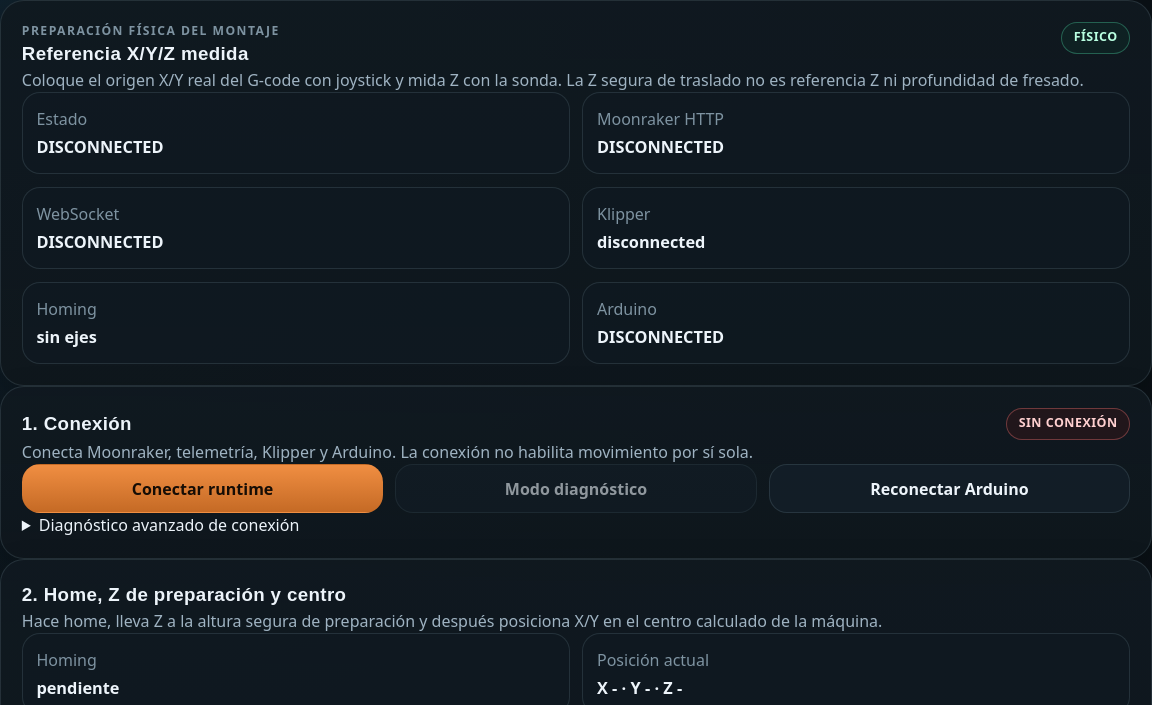
Test: ReferenceWorkspace connection and workflow UI › muestra Reconectar runtime si Conectar no queda listo después de 10 segundos
The image size is (1152, 705).
Click the button "Conectar runtime": x=203, y=489 [22,464,383,513]
Wait 10000 ms
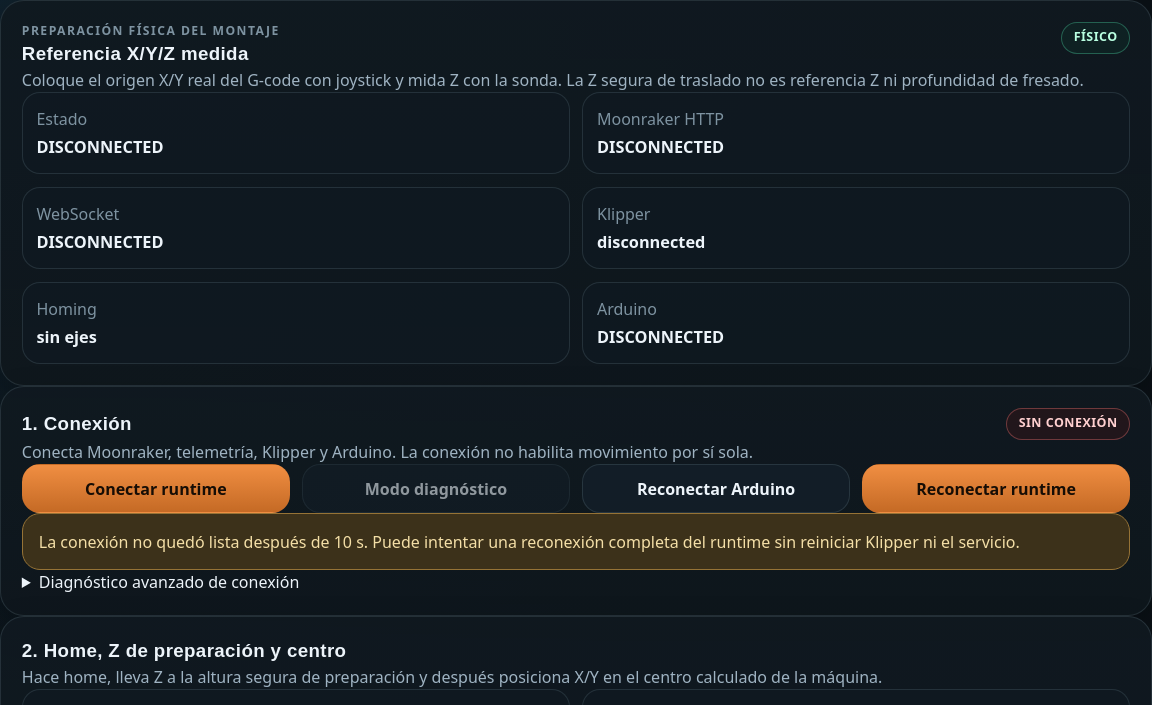
Now the button "Reconectar runtime" is enabled, box [862,464,1130,513]
Now the text "La conexión no quedó lista después de 10 s" is shown, box [39,530,1020,552]
